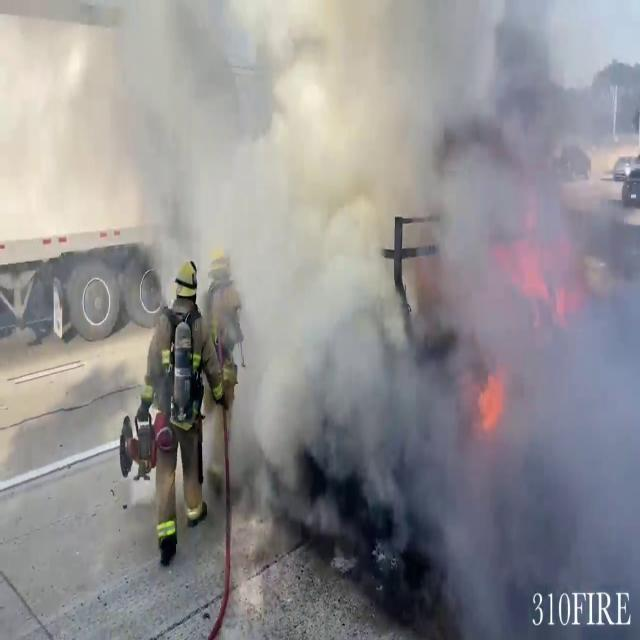Smoke: (226, 1, 640, 630)
